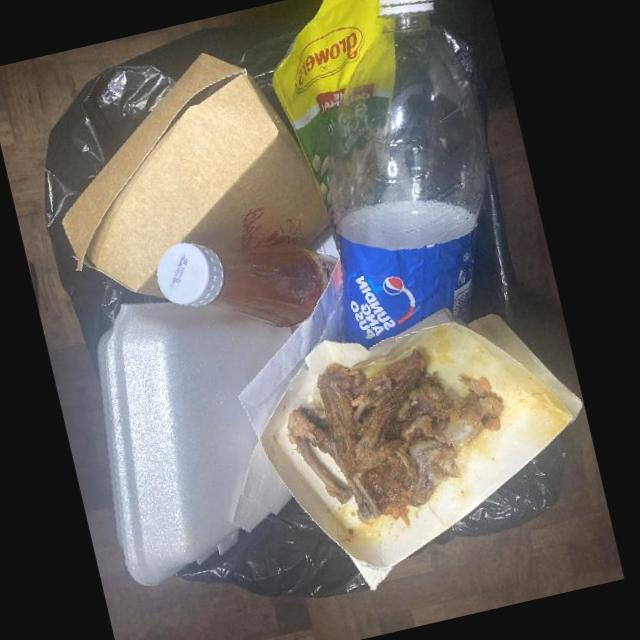bao_bi_thuc_pham: (271, 0, 395, 253)
carton: (258, 307, 583, 593), (62, 51, 333, 309)
chai_nhua_pet: (329, 0, 488, 349)
chai_thuy_tinh: (157, 242, 339, 327)
thuc_an_thua: (287, 350, 505, 524)
xop: (97, 301, 291, 585)
